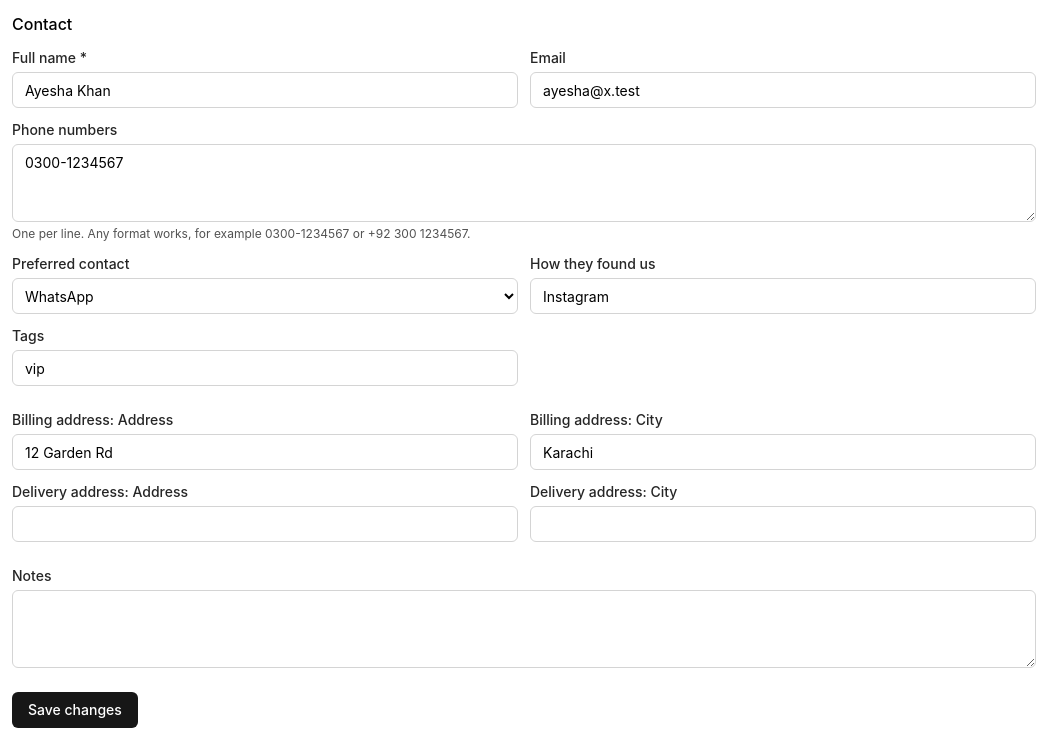
CustomerForm › saves edits with the version it read
Type "Hello" into the text box labelled "Notes" at (524, 629), box [12,590,1036,668]
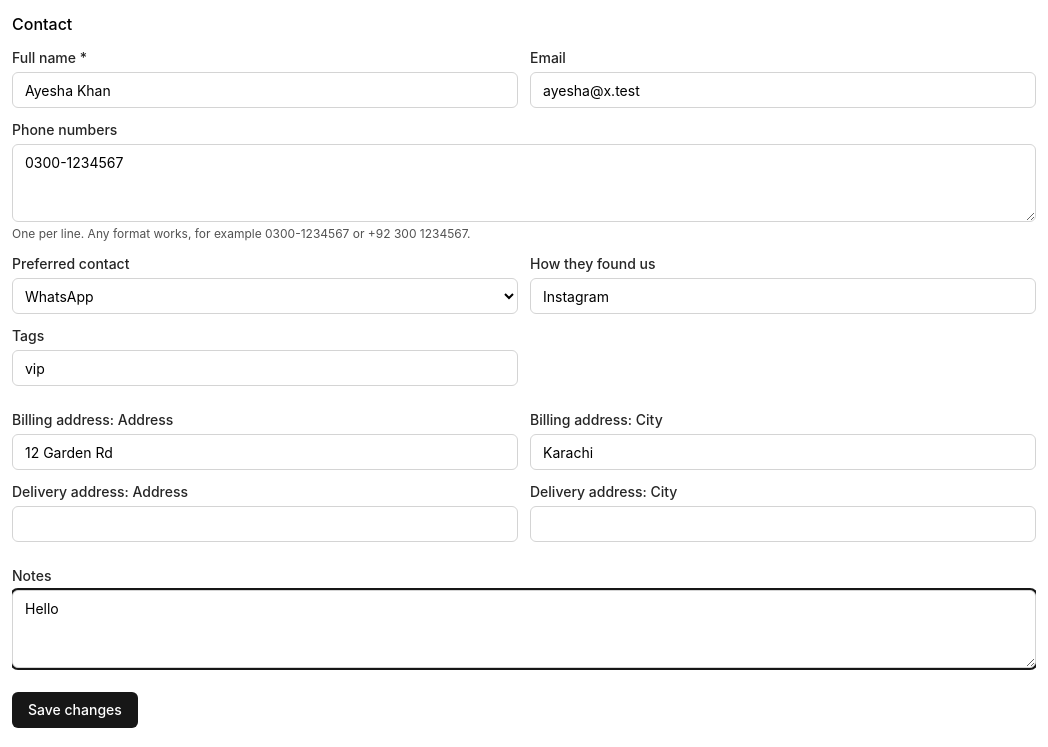
Click the button "Save changes" at (75, 710), box [12,692,138,728]
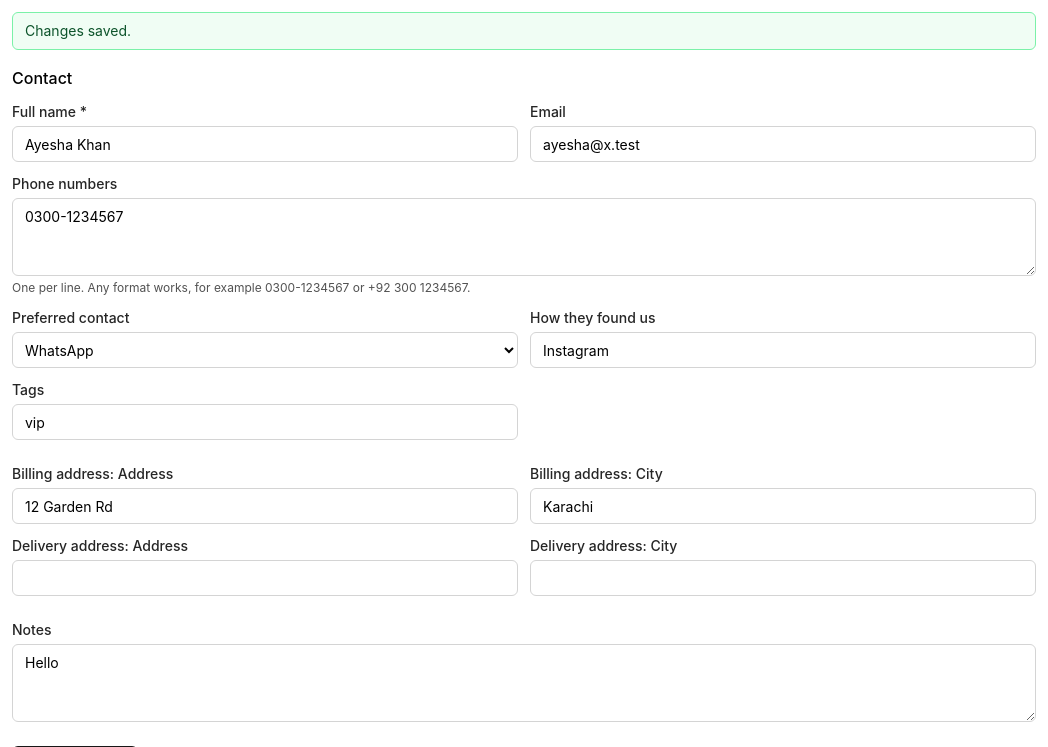
Now the text "Changes saved." is shown, box [12,12,1036,50]
